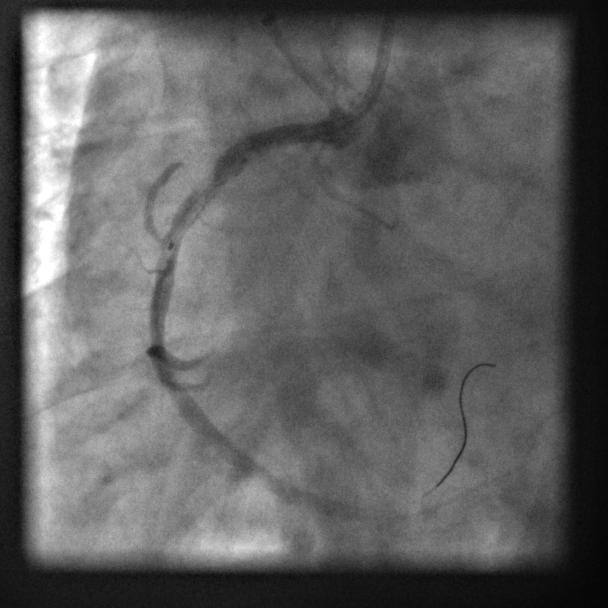Stenosis: (194, 158, 223, 214)
